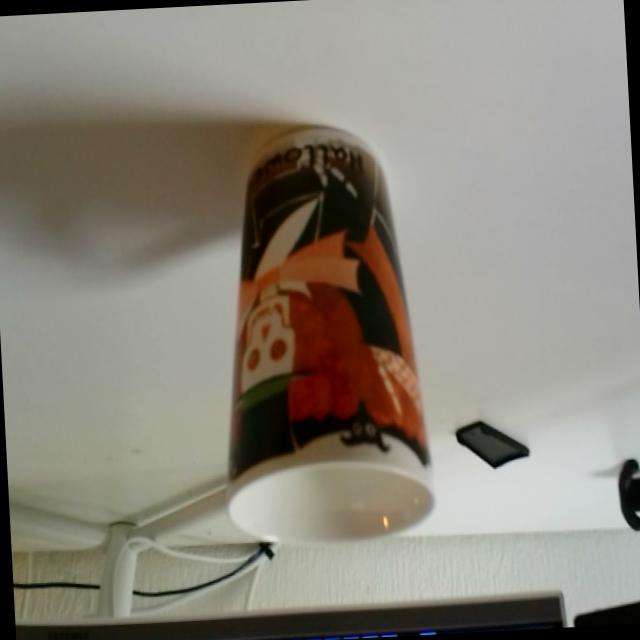Halloween cup: (206, 130, 442, 563)
